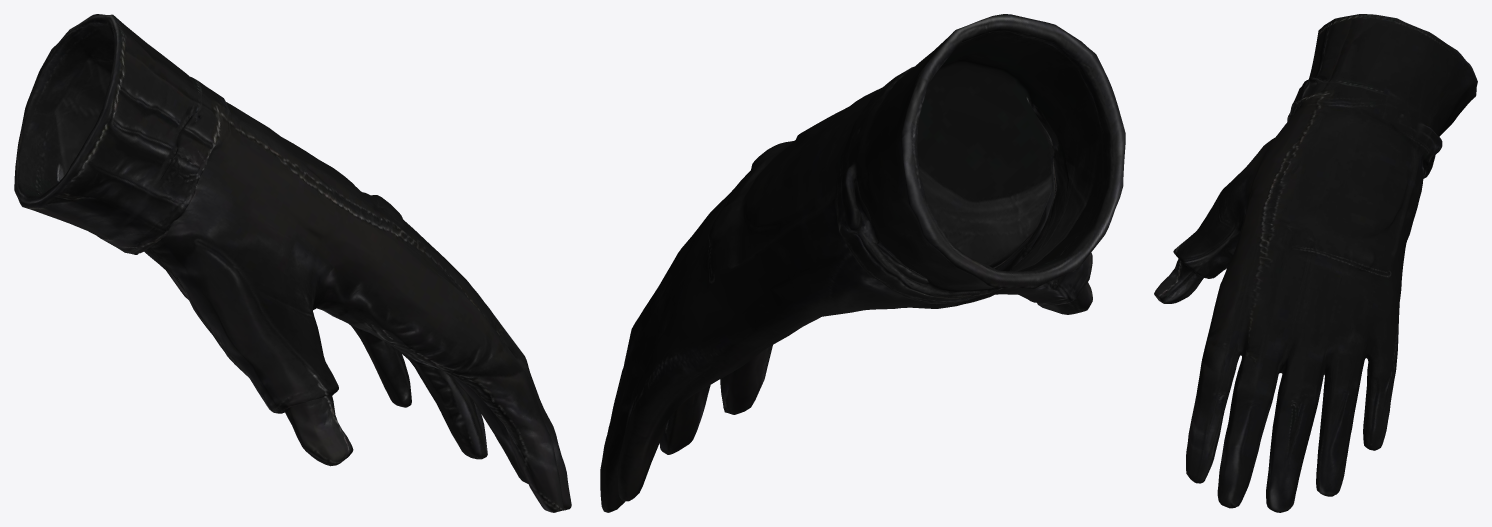
3 views of the same model, side by side, from view 1: azimuth 30°, elevation 25°; view 2: azimuth 150°, elevation 25°; view 3: azimuth 270°, elevation 25° (orthographic). The views are drawn at different scales.
Parts seen in each view (by area): view 1: Mesh1.0; view 2: Mesh1.0; view 3: Mesh1.0.
Boxes of the visible parts, <box> form: Mesh1.0: <box>14,14,571,512</box>; Mesh1.0: <box>600,14,1125,512</box>; Mesh1.0: <box>1154,14,1477,512</box>.
Size of the model in its own units: 188 by 200 by 159.
1 material, 1 textured.
